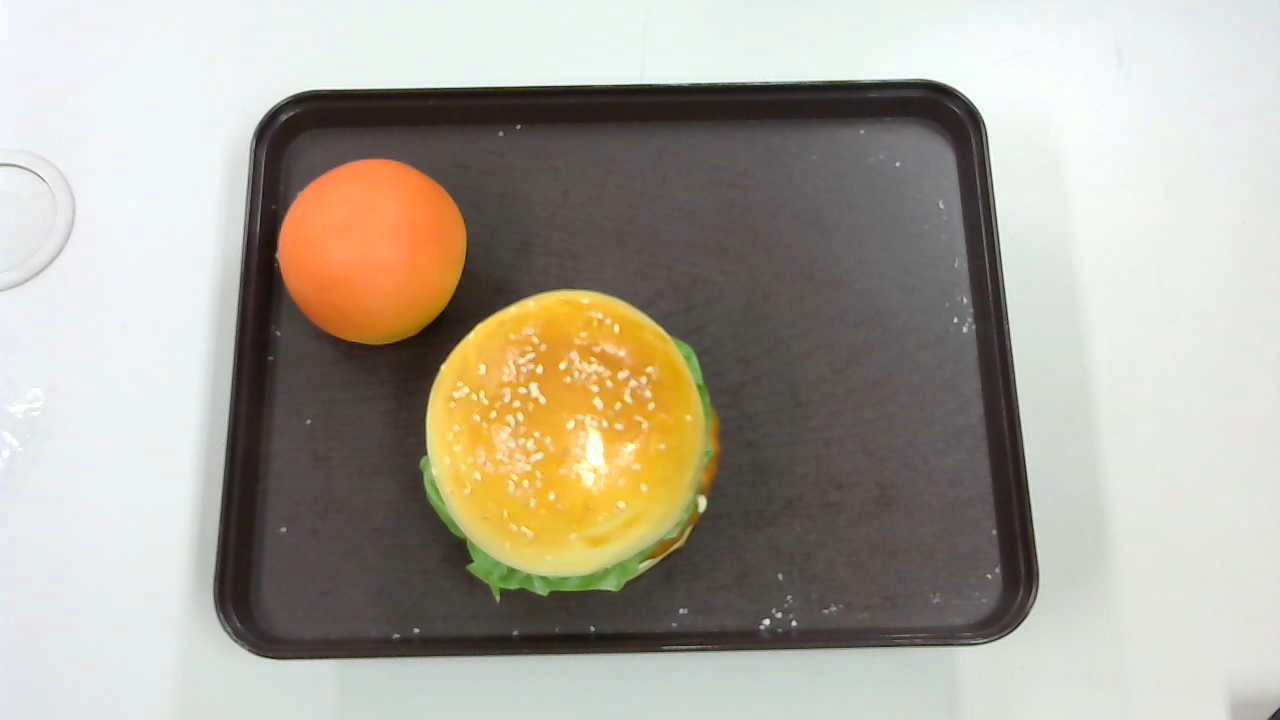bun: (277, 160, 467, 345)
hamburger: (420, 289, 721, 604)
